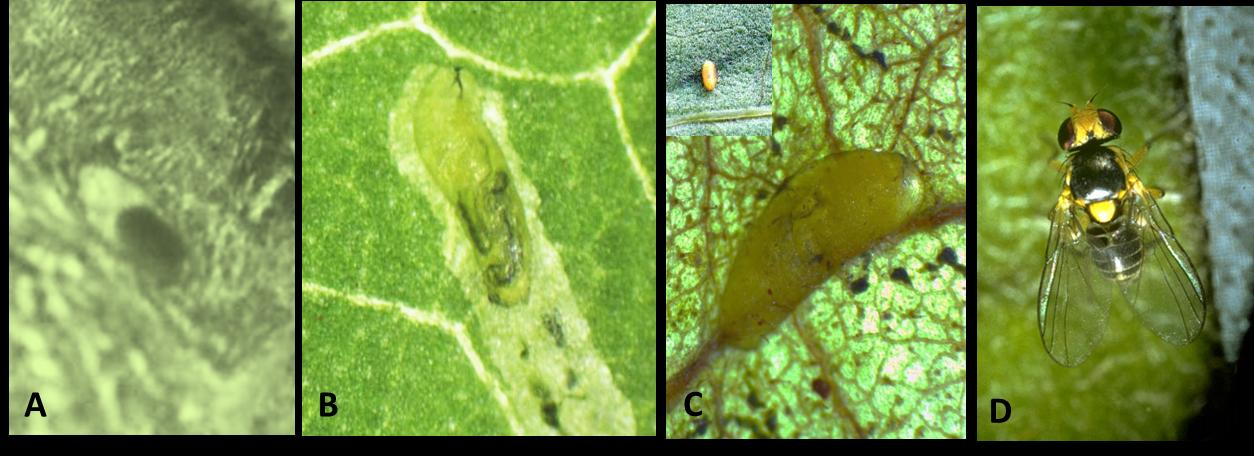Trifoli: (1036, 86, 1254, 385)
